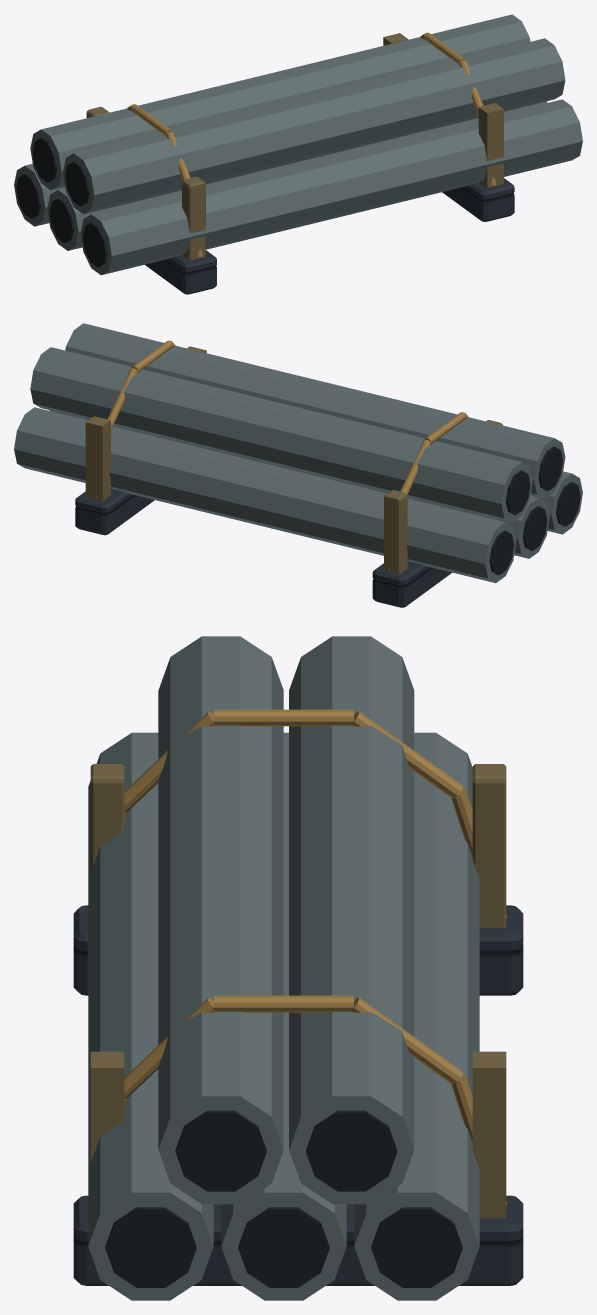
The model's file is HD-02_pipe_sled.glb.
3 views of the same model, one above another, from view 1: azimuth 30°, elevation 25°; view 2: azimuth 150°, elevation 25°; view 3: azimuth 270°, elevation 25° (orthographic). The views are drawn at different scales.
Visible parts, largest first — view 1: HD-02_pipe_sled; view 2: HD-02_pipe_sled; view 3: HD-02_pipe_sled.
Part boxes in pixels (left/top/right/bottom): HD-02_pipe_sled: left=14, top=14, right=582, bottom=294; HD-02_pipe_sled: left=14, top=323, right=582, bottom=607; HD-02_pipe_sled: left=73, top=636, right=523, bottom=1300.
Size of the model in its own units: 4.54 by 1.24 by 1.86.
